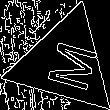M_W: (33, 34, 95, 92)
